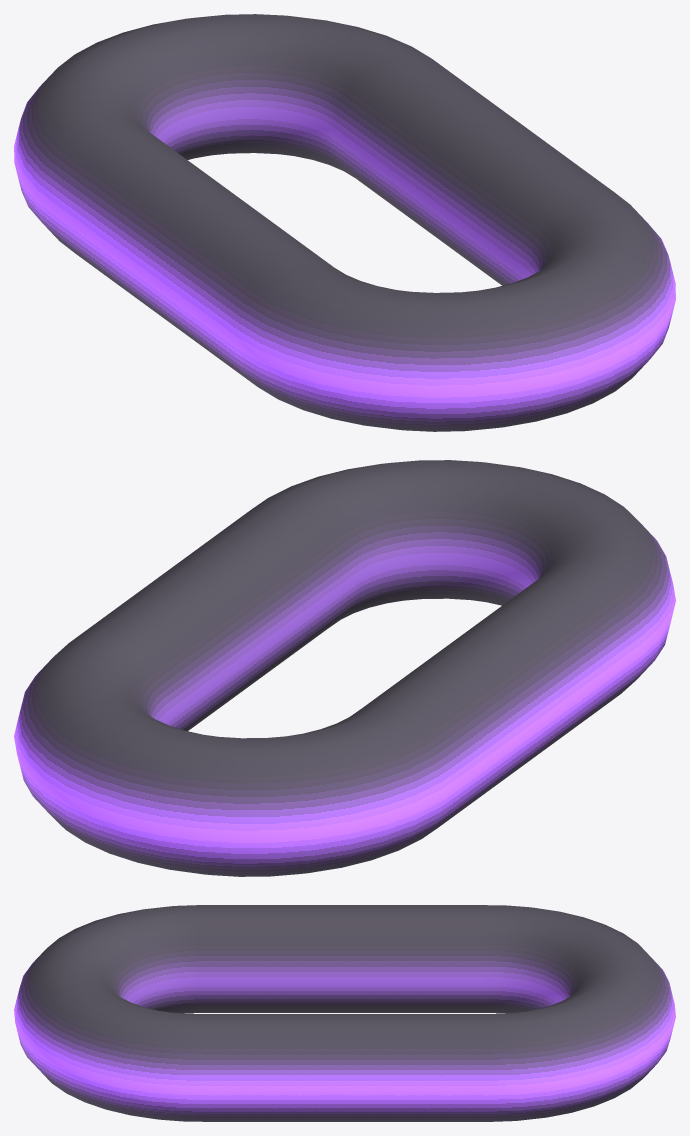
File: DeathChainLink.gltf
The picture shows the model from 3 angles, top to bottom: view 1: azimuth 30°, elevation 25°; view 2: azimuth 150°, elevation 25°; view 3: azimuth 270°, elevation 25°; orthographic projection. The views are drawn at different scales.
Parts seen in each view (by area): view 1: DeathChainLink; view 2: DeathChainLink; view 3: DeathChainLink.
Boxes of the visible parts, x1,y1,x2,y2 form: DeathChainLink: [14, 14, 675, 431]; DeathChainLink: [14, 460, 675, 876]; DeathChainLink: [14, 905, 675, 1121].
Size of the model in its own units: 0.2 by 0.0585 by 0.3598.
